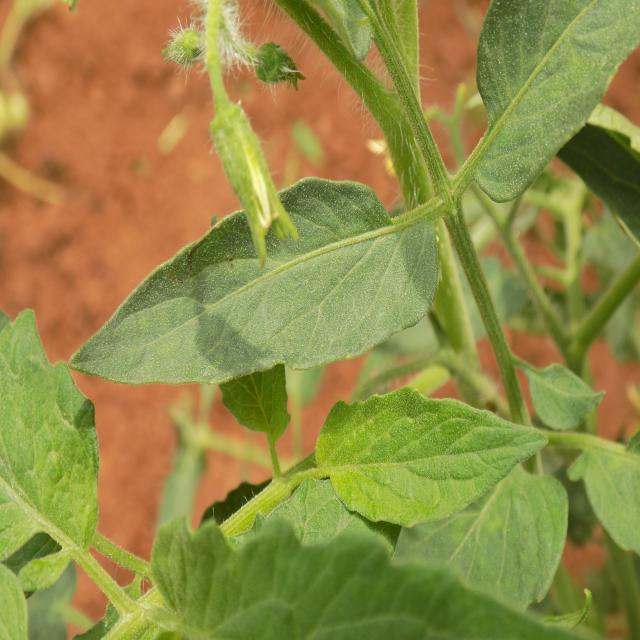tomato_healthy: (70, 171, 452, 388), (304, 393, 552, 522)
